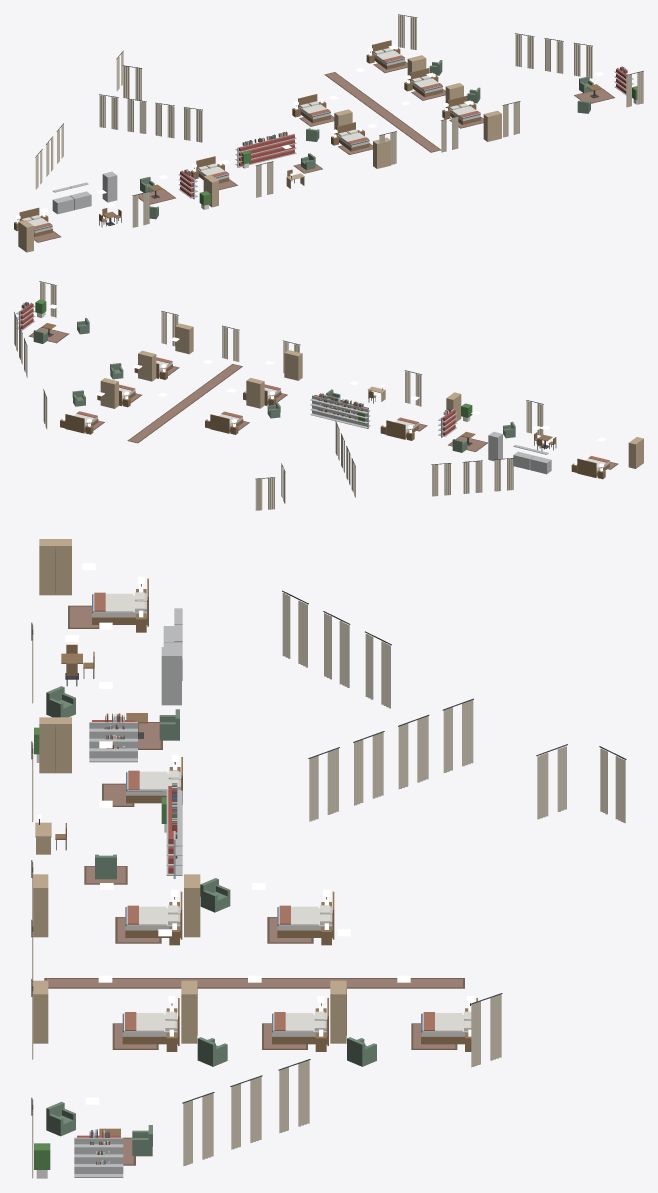
File: fine-s1.glb
3 views of the same model, one above another, from view 1: azimuth 30°, elevation 25°; view 2: azimuth 150°, elevation 25°; view 3: azimuth 270°, elevation 25° (orthographic). The views are drawn at different scales.
Visible parts, largest first — view 1: soft-s1, dresser.004, dresser.001, dresser#s1r0.000, fridge#s1r1.000, kitchen-counter#s1r1.000, bed-frame.002, bed-frame.001, bed-frame.000, shelving#s1r4.001, bed-frame.003, bed-frame.004 (+2 smaller); view 2: soft-s1, dresser.000, dresser.001, dresser.003, dresser.004, dresser.002, dresser#s1r0.000, fridge#s1r1.000, kitchen-counter#s1r1.000, bed-frame.002, bed-frame.000, bed-frame#s1r3.000 (+6 smaller); view 3: soft-s1, shelving#s1r5.000, shelving#s1r2.000, dresser#s1r0.000, dresser#s1r3.000, fridge#s1r1.000, dresser.002, dresser.000, dresser.003, dresser.001, dresser.004.
Part boxes in pixels (box(x1,y1,x2,y2)): soft-s1: box(15, 14, 643, 242); dresser.004: box(483, 110, 501, 141); dresser.001: box(373, 137, 391, 168); dresser#s1r0.000: box(18, 220, 33, 252); fridge#s1r1.000: box(102, 171, 117, 202); kitchen-counter#s1r1.000: box(52, 186, 74, 214); bed-frame.002: box(372, 40, 405, 69); bed-frame.001: box(336, 122, 369, 151); bed-frame.000: box(298, 94, 330, 123); shelving#s1r4.001: box(251, 139, 272, 164); bed-frame.003: box(410, 68, 442, 97); bed-frame.004: box(447, 95, 480, 124); soft-s1: box(14, 281, 618, 510); dresser.000: box(246, 378, 264, 408); dresser.001: box(284, 350, 302, 380); dresser.003: box(138, 350, 156, 381); dresser.004: box(175, 323, 193, 354); dresser.002: box(100, 378, 118, 408); dresser#s1r0.000: box(628, 437, 643, 468); fridge#s1r1.000: box(488, 431, 502, 461); kitchen-counter#s1r1.000: box(530, 449, 551, 474); bed-frame.002: box(65, 414, 98, 433); bed-frame.000: box(210, 414, 243, 433); bed-frame#s1r3.000: box(386, 420, 418, 439); soft-s1: box(31, 576, 626, 1178); shelving#s1r5.000: box(74, 1135, 123, 1177); shelving#s1r2.000: box(89, 720, 137, 762); dresser#s1r0.000: box(39, 539, 71, 595); dresser#s1r3.000: box(39, 717, 71, 773); fridge#s1r1.000: box(161, 647, 181, 705); dresser.002: box(330, 980, 346, 1043); dresser.000: box(184, 874, 200, 937); dresser.003: box(181, 980, 197, 1043); dresser.001: box(33, 874, 48, 937); dresser.004: box(33, 980, 48, 1043).
Size of the model in its own units: 51.65 by 2.66 by 21.92.
